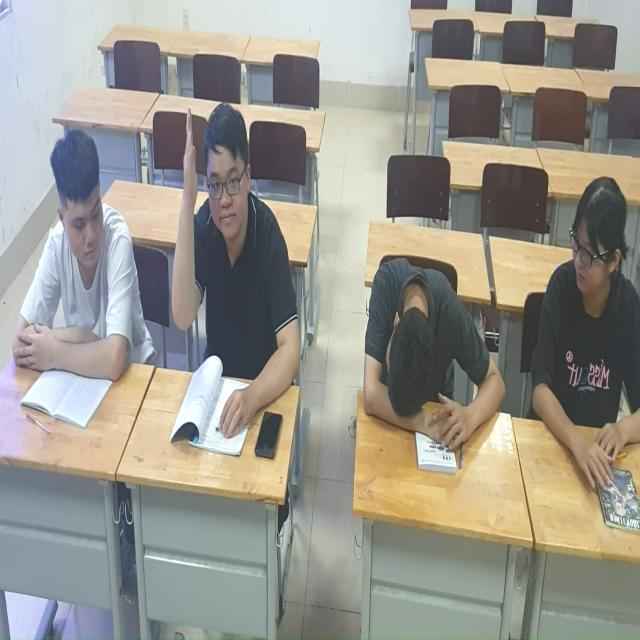raise_hand: (152, 111, 317, 455)
read: (528, 177, 640, 536), (29, 119, 145, 426)
sleep: (366, 249, 486, 468)
